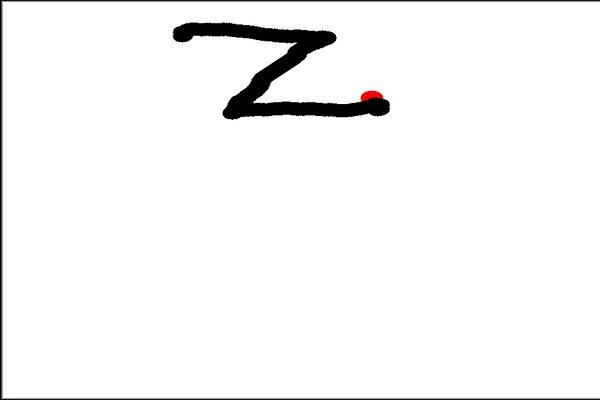Z: (165, 14, 357, 138)
